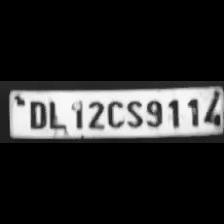1: (182, 94, 200, 128), (164, 97, 182, 129), (66, 98, 83, 130)
2: (84, 98, 104, 130)
4: (201, 92, 223, 126)
9: (142, 96, 164, 128)
C: (105, 97, 123, 128)
D: (25, 98, 48, 130)
L: (46, 98, 66, 130)
S: (123, 97, 143, 128)
